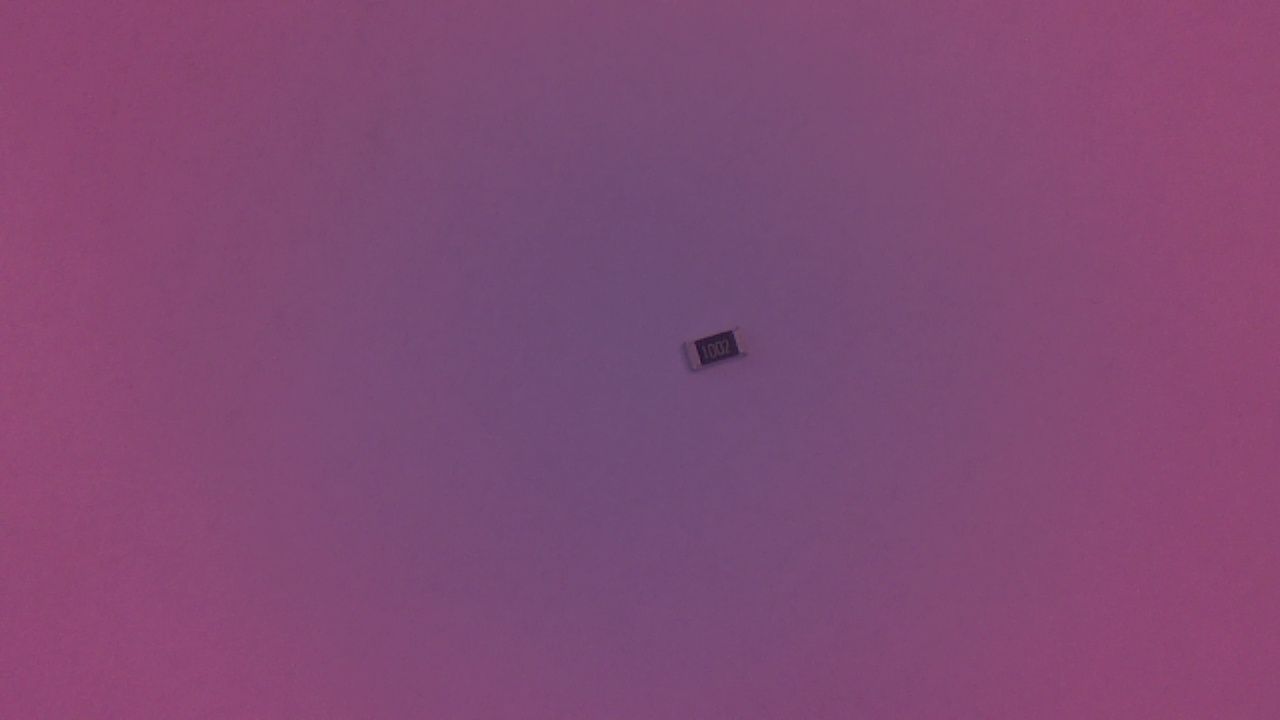Resistor: (680, 324, 759, 382)
